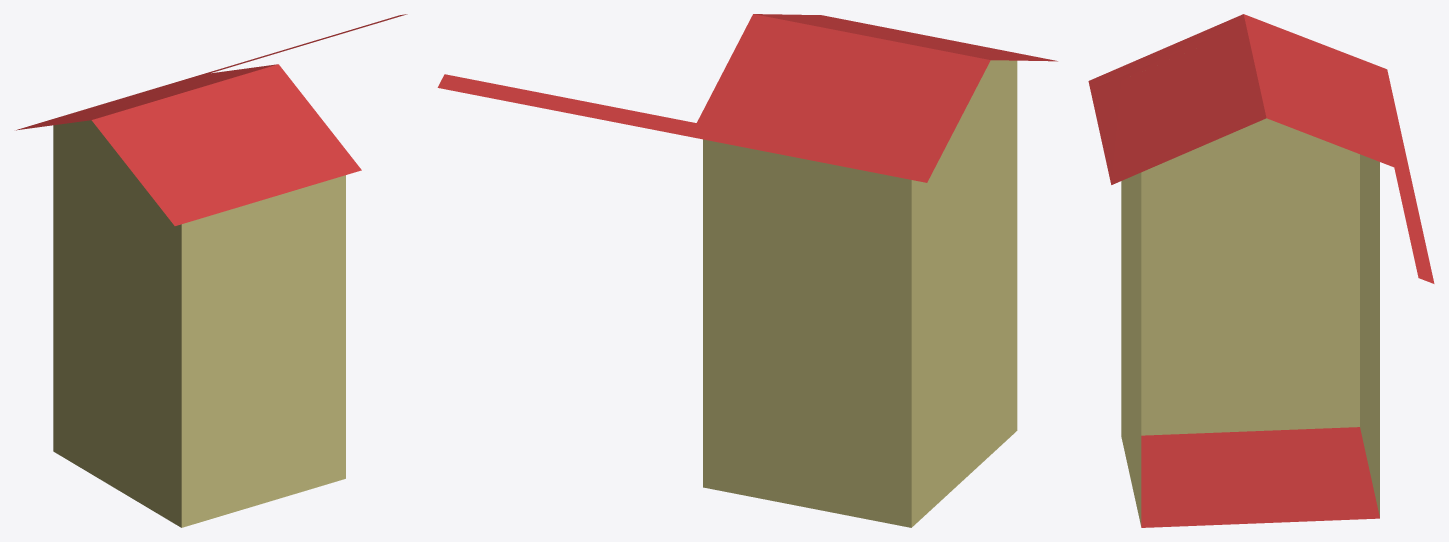
The picture shows the model from 3 angles, left to right: view 1: azimuth 30°, elevation 25°; view 2: azimuth 150°, elevation 25°; view 3: azimuth 270°, elevation 25°; orthographic projection. The views are drawn at different scales.
Bounding box in the file's own units: 8.44 × 5.73 × 7.4.
